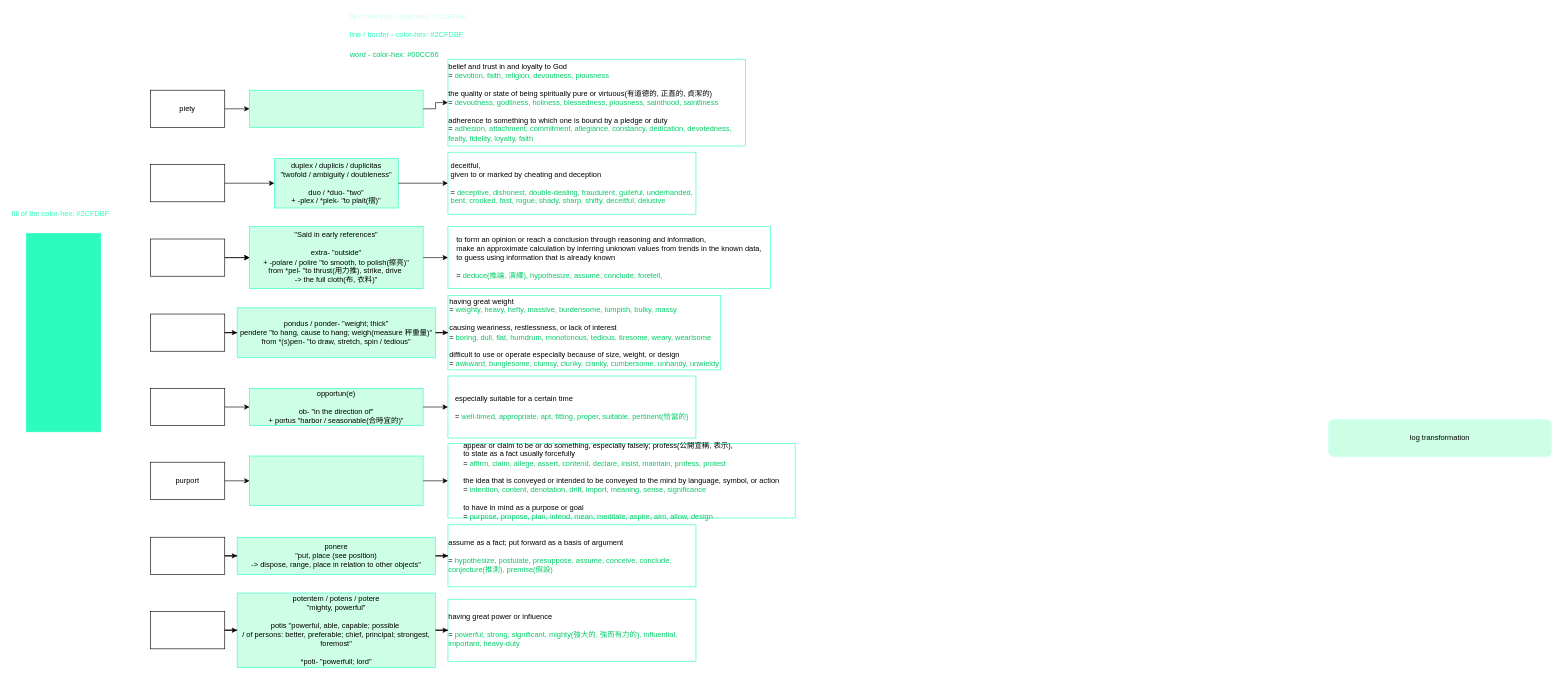
Image size: 1562x678. Some labels were removed from this diagram. The shapes that lost their labels are listed below. From the top down, each one's centre as x and y in pixels, then its label:
[336,108]: pietas "dutifulness" pius / pious "dutiful, pious(devoutly religious)"
[187,183]: duplicitous
[187,257]: extrapolate
[63,332]: p.45 piety duplicitous extrapolate ponderous opportune purport posit potent
[187,332]: ponderous
[187,407]: opportune
[336,480]: pro- "forth" + protare "carry, bear -> appear to be"
[187,555]: posit
[187,630]: potent
